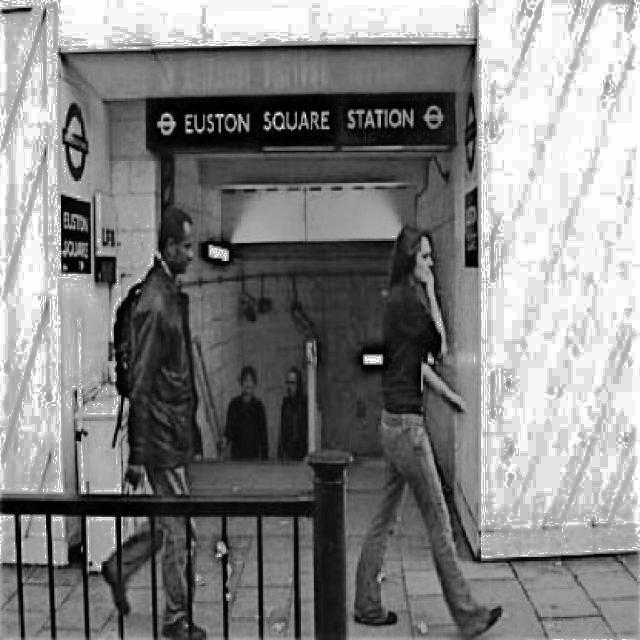Person: (353, 223, 504, 640), (98, 201, 207, 640), (215, 363, 269, 462), (275, 363, 312, 462)
